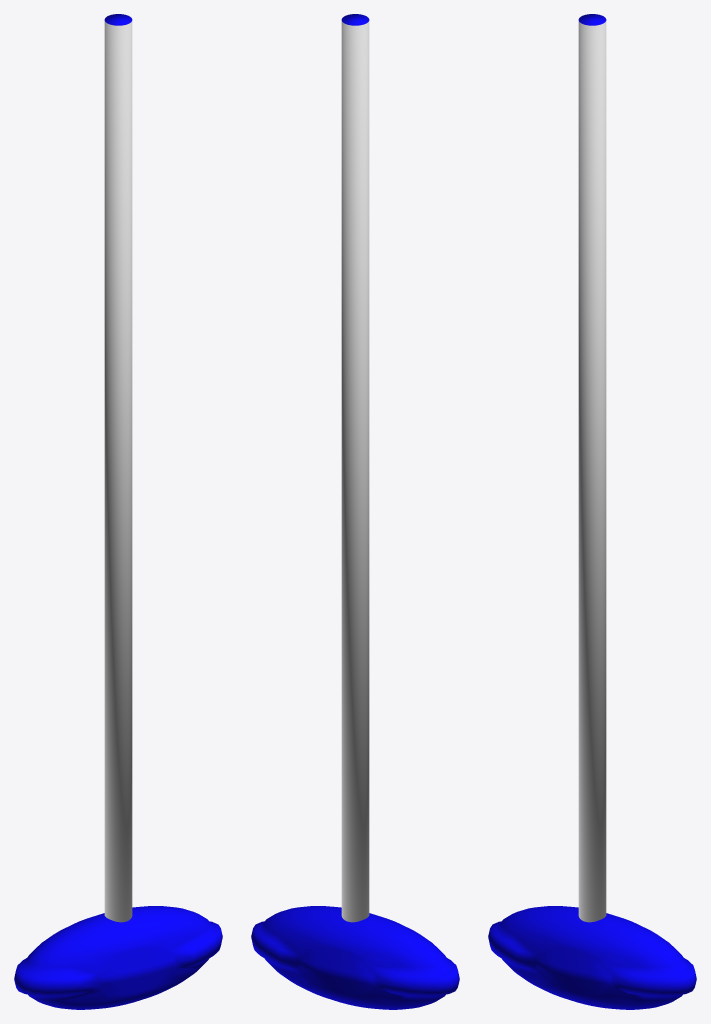
The model's file is pince_base.fbx.
3 views of the same model, side by side, from view 1: azimuth 30°, elevation 25°; view 2: azimuth 150°, elevation 25°; view 3: azimuth 330°, elevation 25° (orthographic).
Parts seen in each view (by area): view 1: Pince; view 2: Pince; view 3: Pince.
Part boxes in pixels (x1,y1,x2,y2): Pince: (14, 14, 222, 1009); Pince: (251, 14, 459, 1009); Pince: (488, 14, 696, 1009).
Size of the model in its own units: 19.37 by 89.12 by 7.03.
